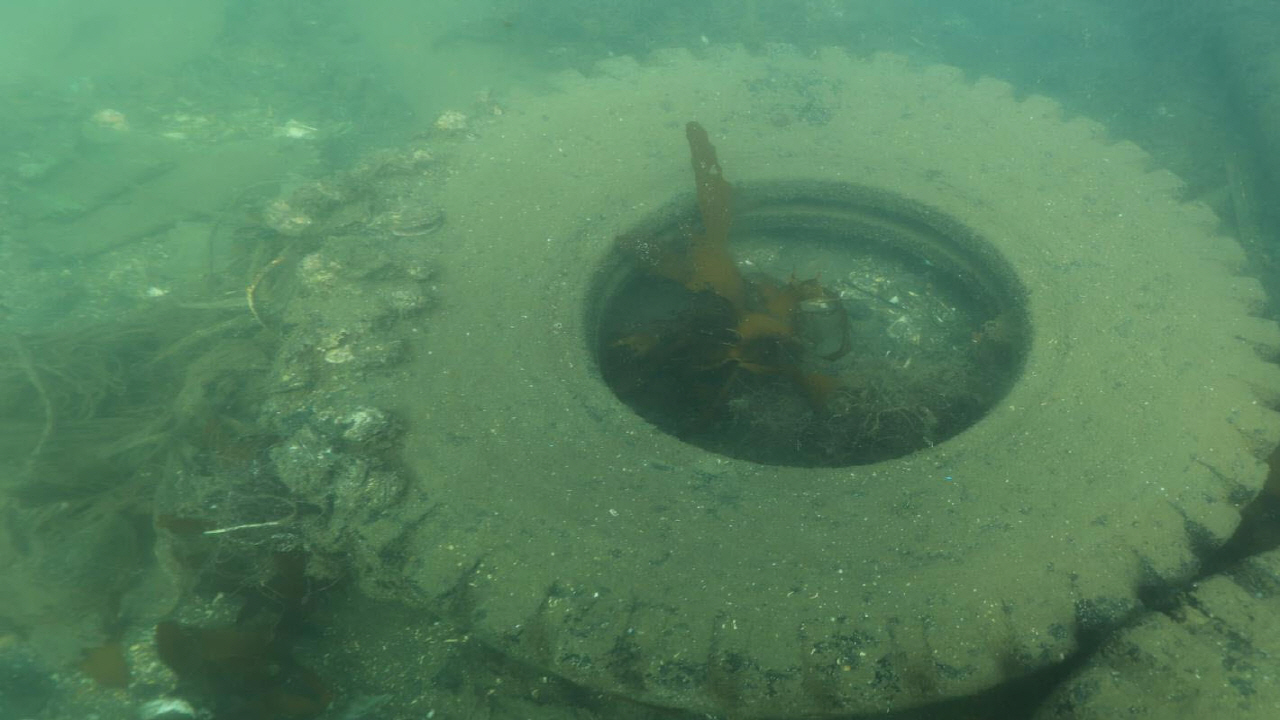tire: (383, 34, 1280, 720)
